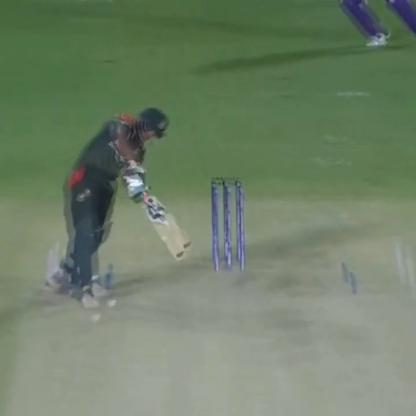ball: (85, 311, 103, 329), (101, 296, 120, 310)
bat: (125, 168, 201, 268)
pitch: (1, 250, 416, 416)
